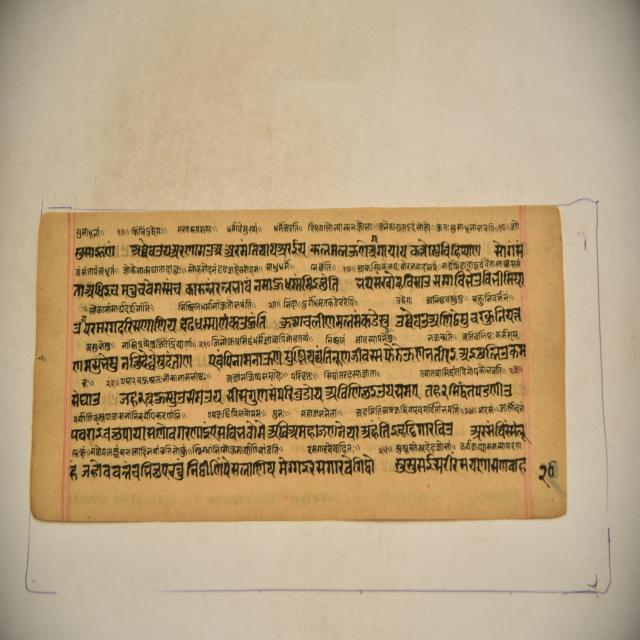text_paragraph: (28, 210, 566, 519)
